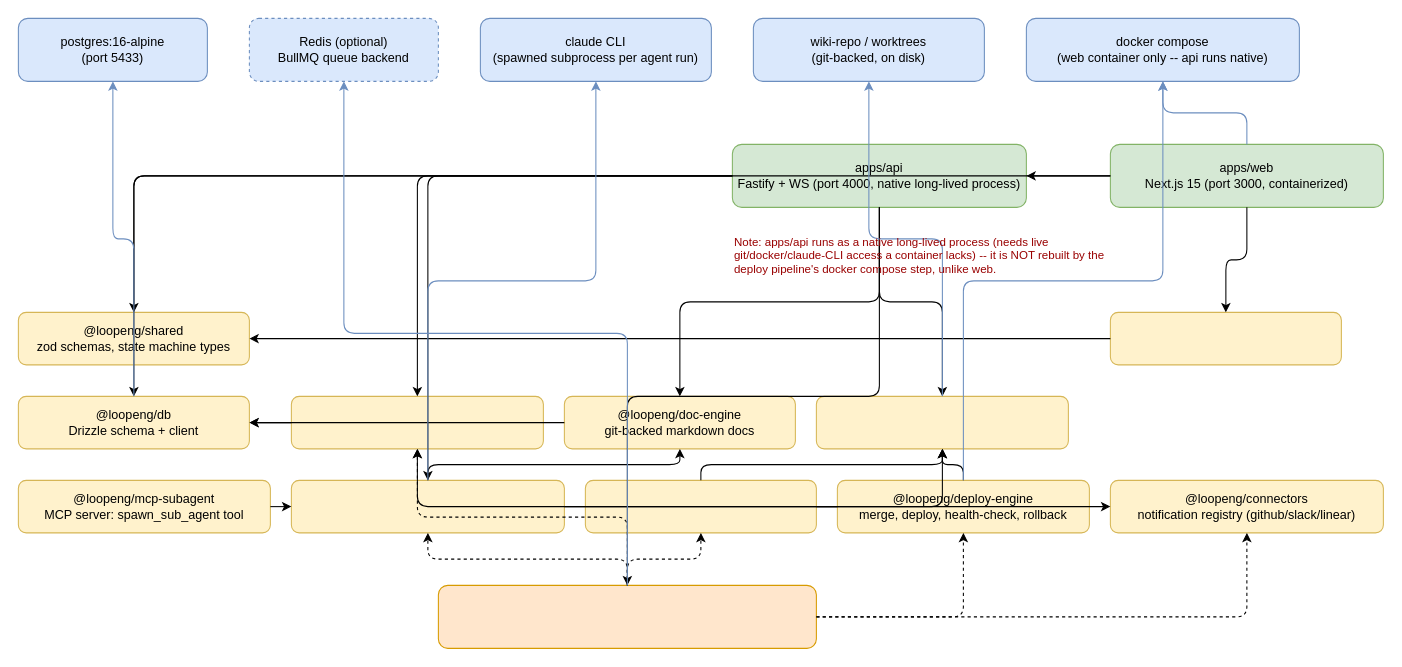
This 1402x667 diagram has some shape labels left out. The shapes that lost their labels are listed below. From the top down, each one's centre as x and y in pixels, then its label:
At point (1225, 338): "@loopeng/ui React component library".
At point (416, 422): "@loopeng/board-engine state machine, card-status, blockedReason".
At point (941, 422): "@loopeng/worktree-manager git worktree lifecycle + diff".
At point (427, 506): "@loopeng/agents claude CLI spawner, roles, sessionRegistry".
At point (700, 506): "@loopeng/gates quality gate pipeline".
At point (626, 616): "@loopeng/orchestrator cron + event triggers, HierarchicalStrategy, HookRegistry".
